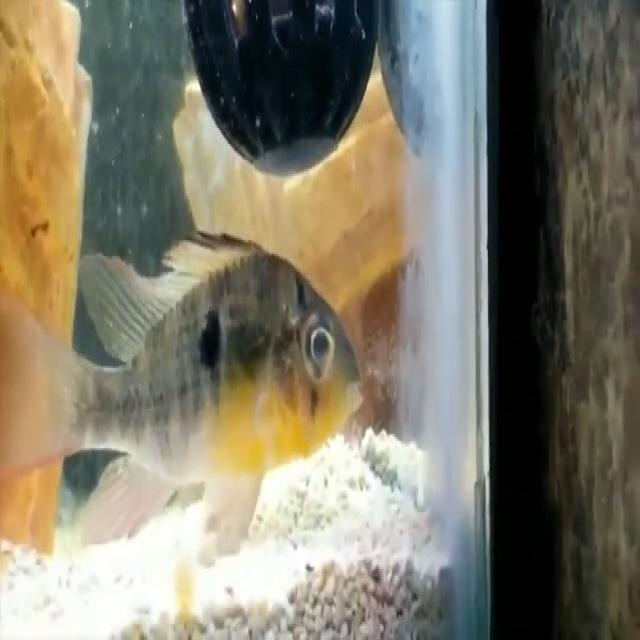fish: (0, 227, 369, 583)
